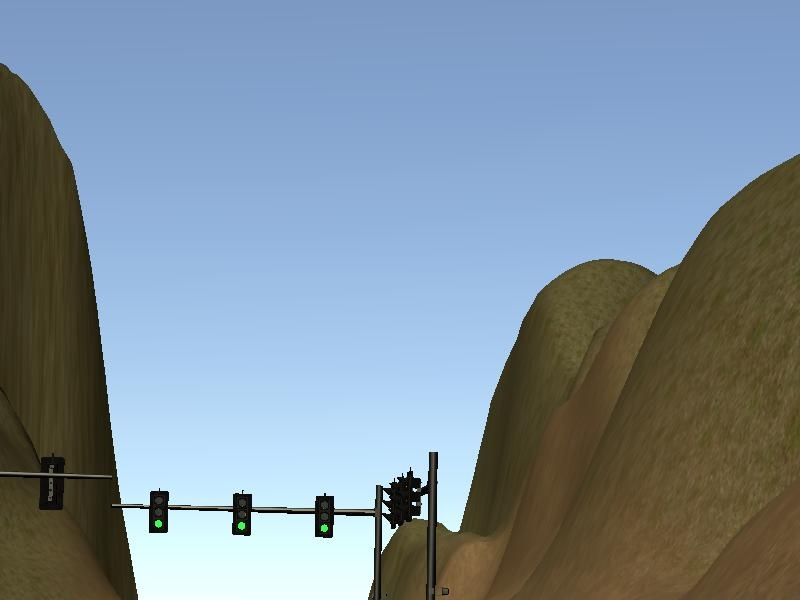green: (232, 494, 253, 535), (314, 495, 335, 536), (148, 490, 168, 533)
